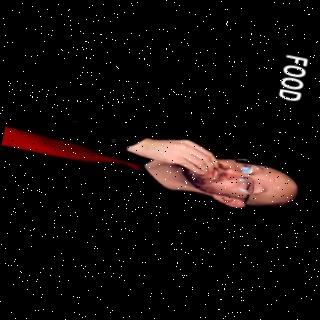Food: (0, 88, 308, 242)
